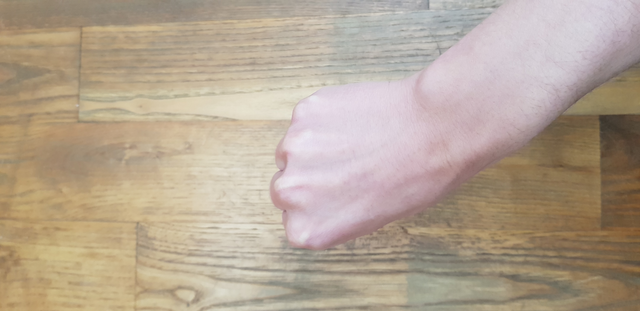Rock: (248, 74, 483, 265)
